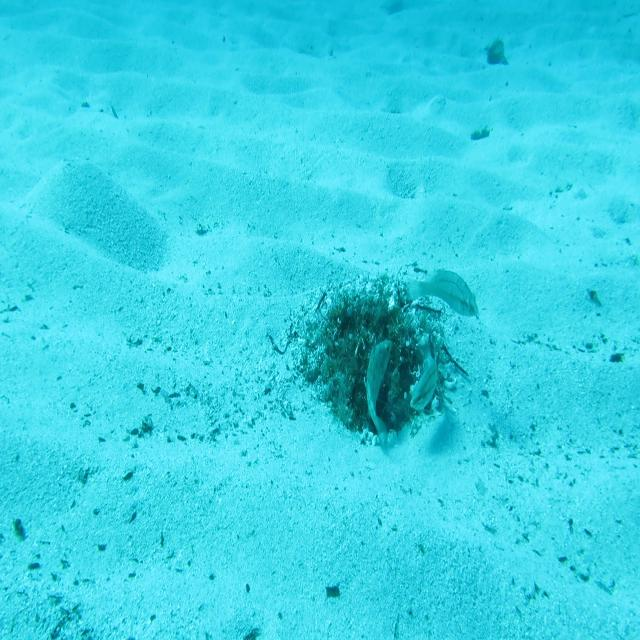DAN_CIRC: (365, 338, 393, 456)
core_nest: (354, 306, 399, 340)
female: (407, 268, 479, 319), (408, 338, 439, 413)
nest: (287, 272, 460, 454)
vegetation: (482, 36, 509, 69), (470, 124, 490, 145), (322, 582, 342, 600)
